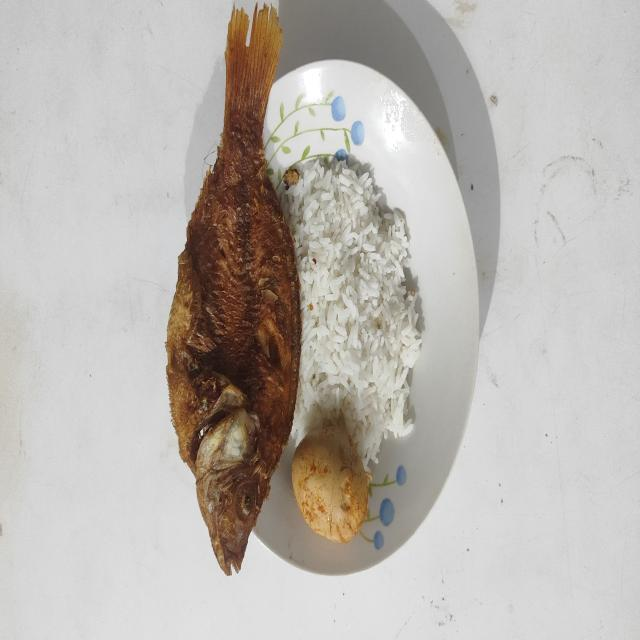ikan_mujair: (166, 4, 301, 574)
nasi_putih: (282, 154, 422, 470)
